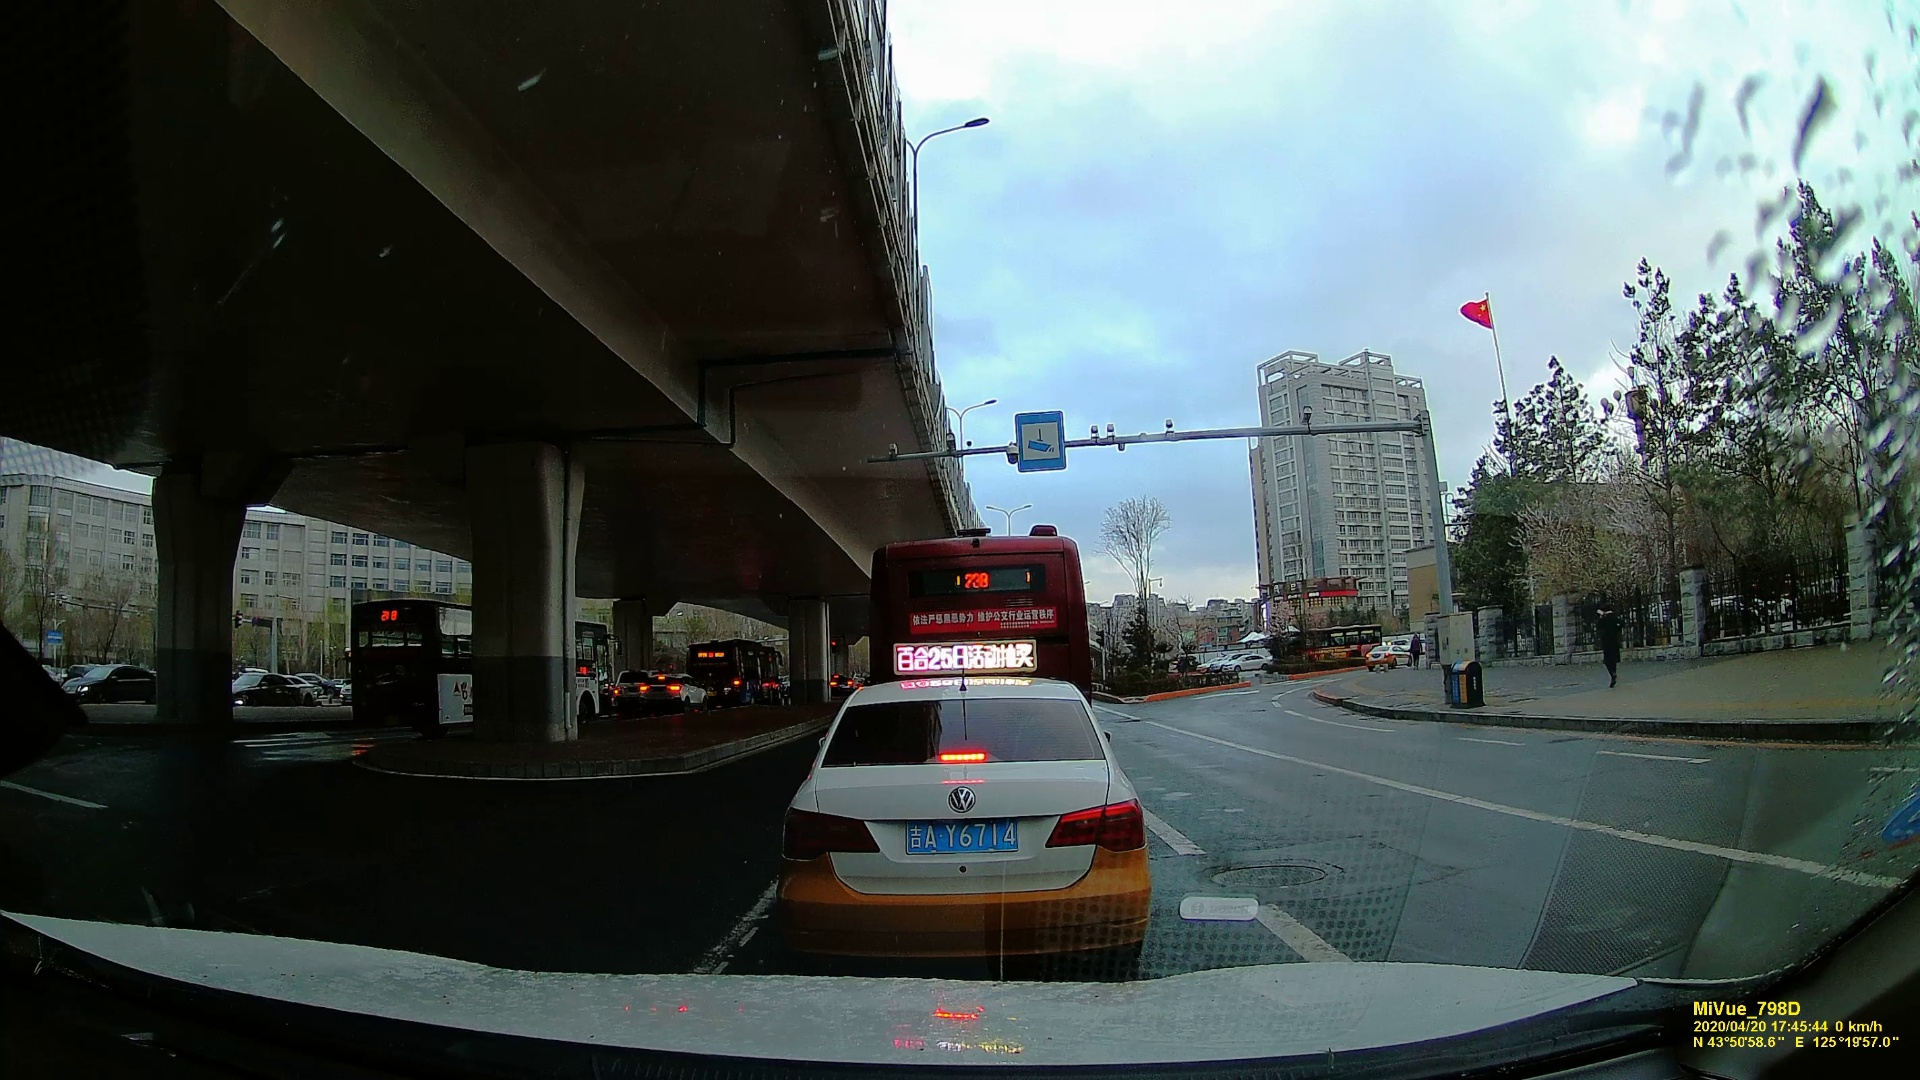bus: (349, 600, 613, 740), (877, 528, 1082, 678), (689, 640, 779, 704)
person: (1592, 608, 1624, 688)
traffic_sign: (1012, 409, 1070, 472)
vehicle: (782, 686, 1142, 940), (52, 654, 168, 712), (641, 672, 705, 700), (1364, 642, 1401, 667)
